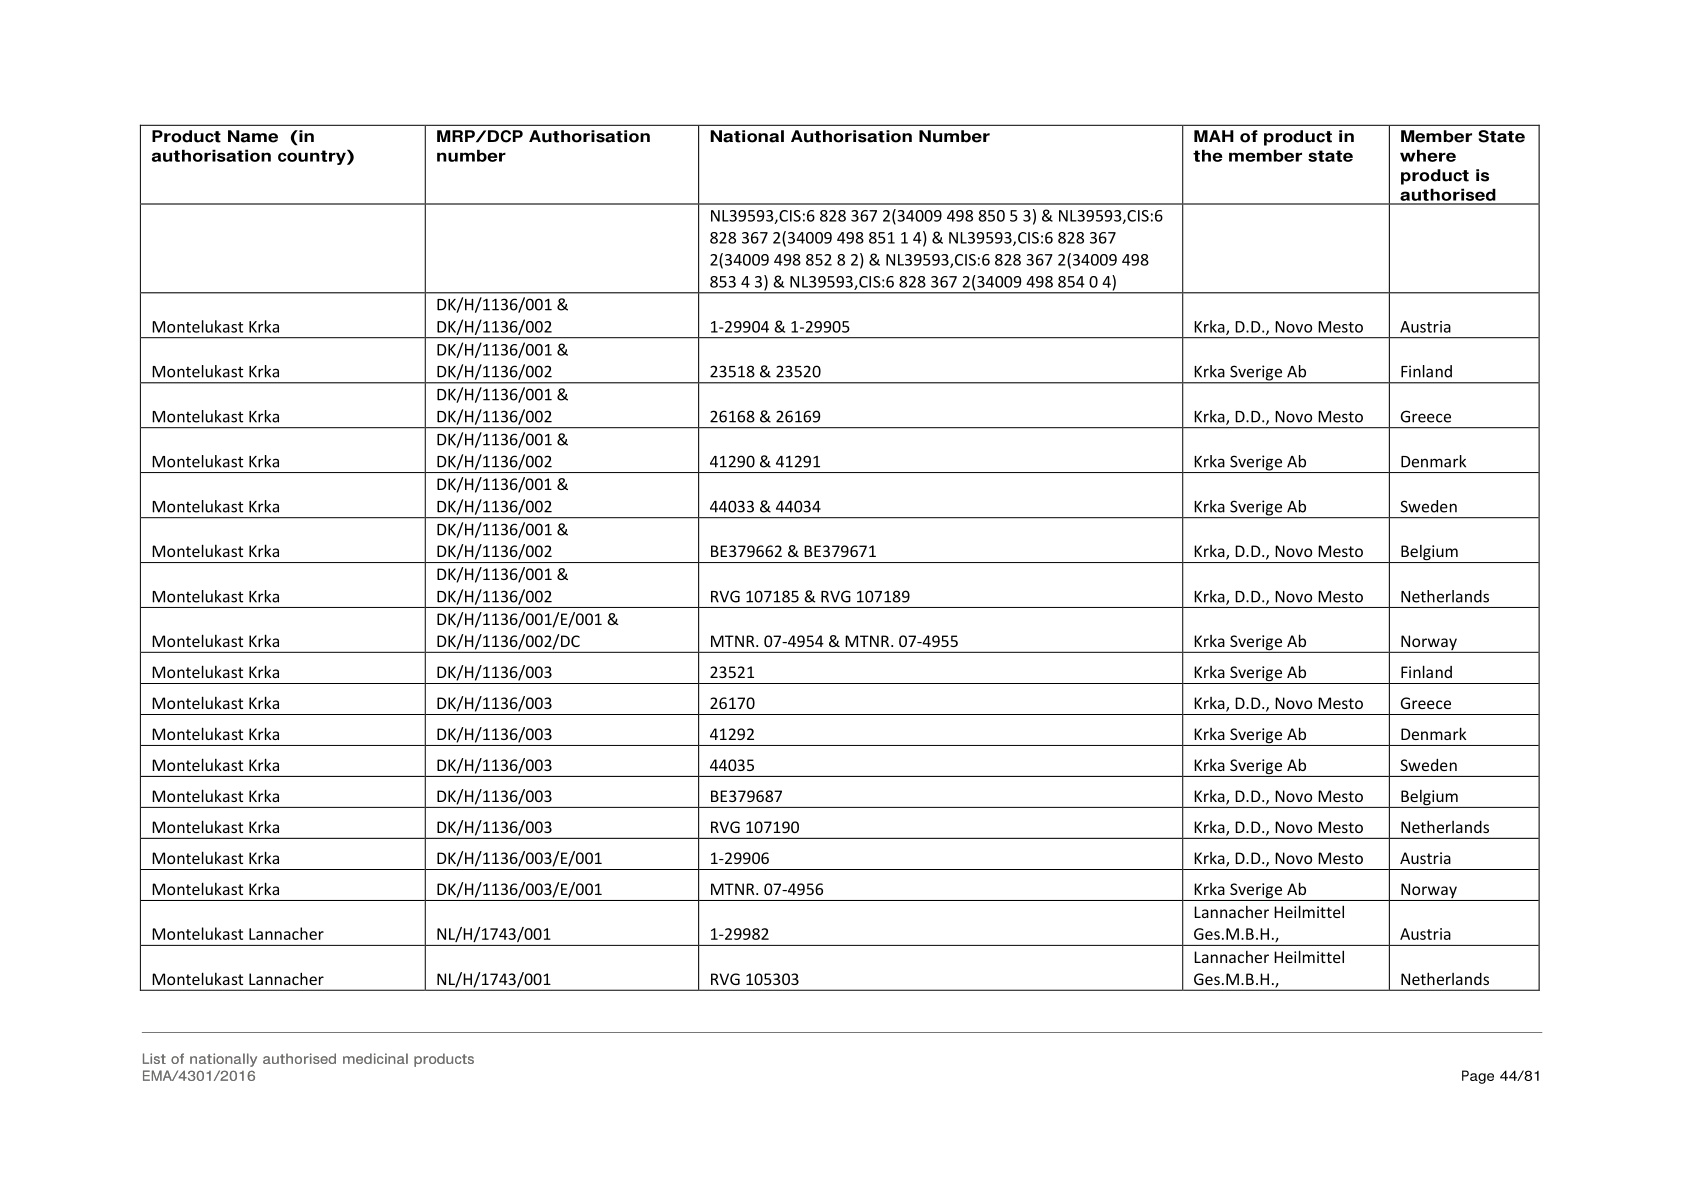full_lined: (138, 122, 1541, 992)
